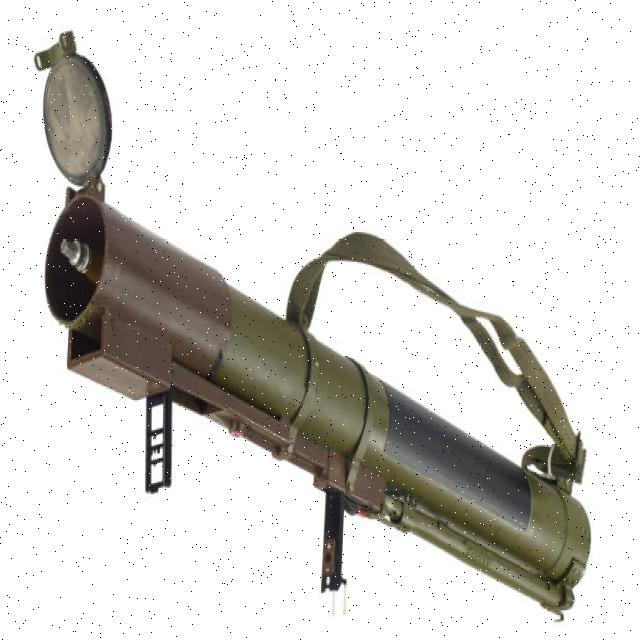bazooka: (28, 16, 597, 639)
